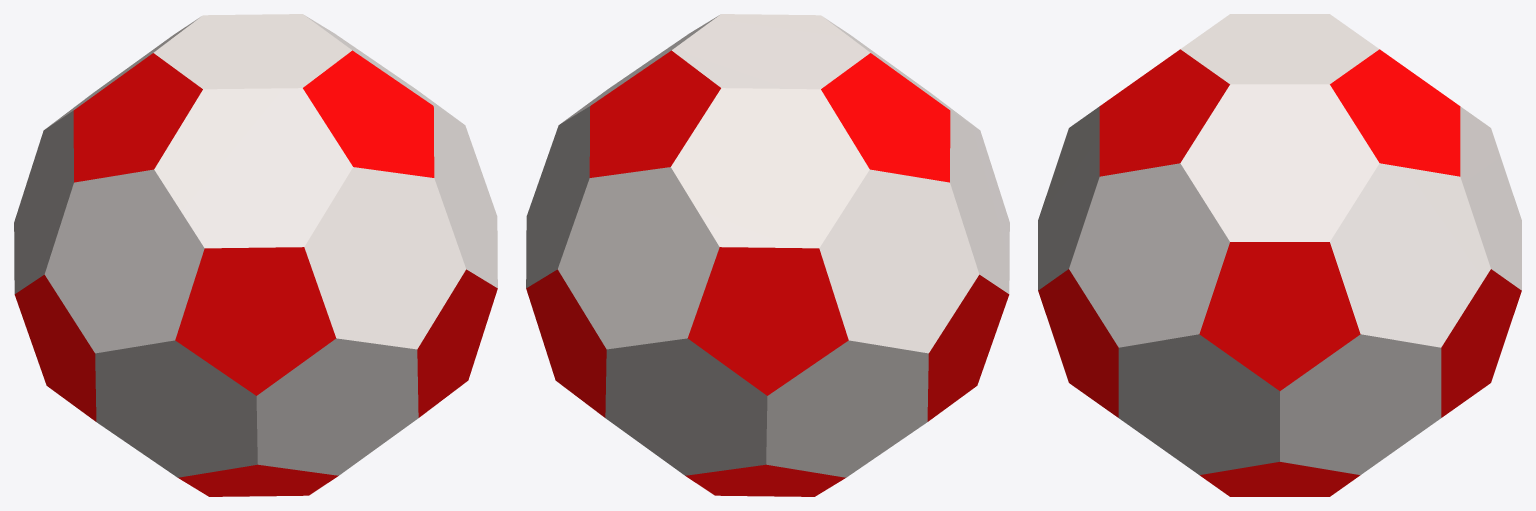
File: SM_Toy_08.fbx
3 views of the same model, side by side, from view 1: azimuth 30°, elevation 25°; view 2: azimuth 150°, elevation 25°; view 3: azimuth 270°, elevation 25° (orthographic).
Visible parts, largest first — view 1: SM_Toy_07; view 2: SM_Toy_07; view 3: SM_Toy_07.
Boxes of the visible parts, x1,y1,x2,y2 form: SM_Toy_07: (14, 14, 497, 496); SM_Toy_07: (526, 14, 1009, 496); SM_Toy_07: (1038, 14, 1521, 496).
Bounding box in the file's own units: 23.81 × 22.15 × 23.57.
1 material, 1 textured.
